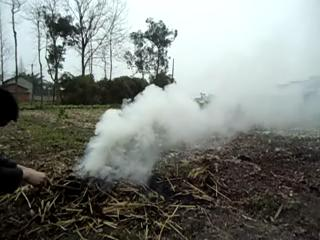yanwu: (79, 45, 304, 183)
